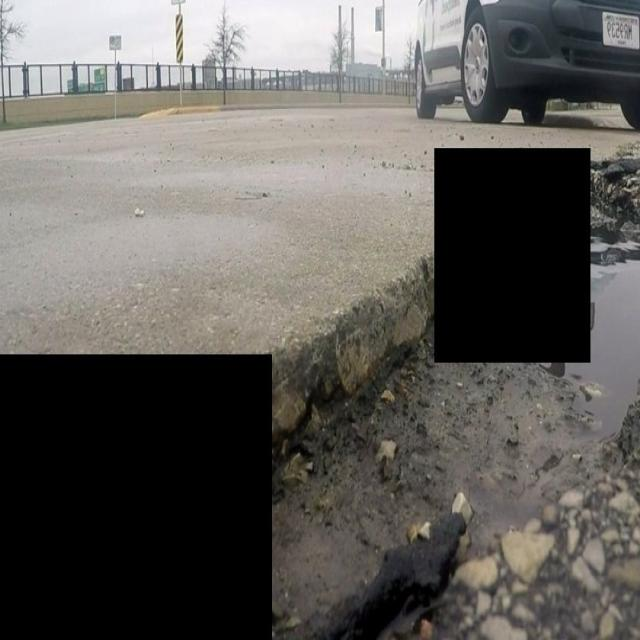road-pothole: (268, 282, 639, 639), (589, 165, 639, 381)
